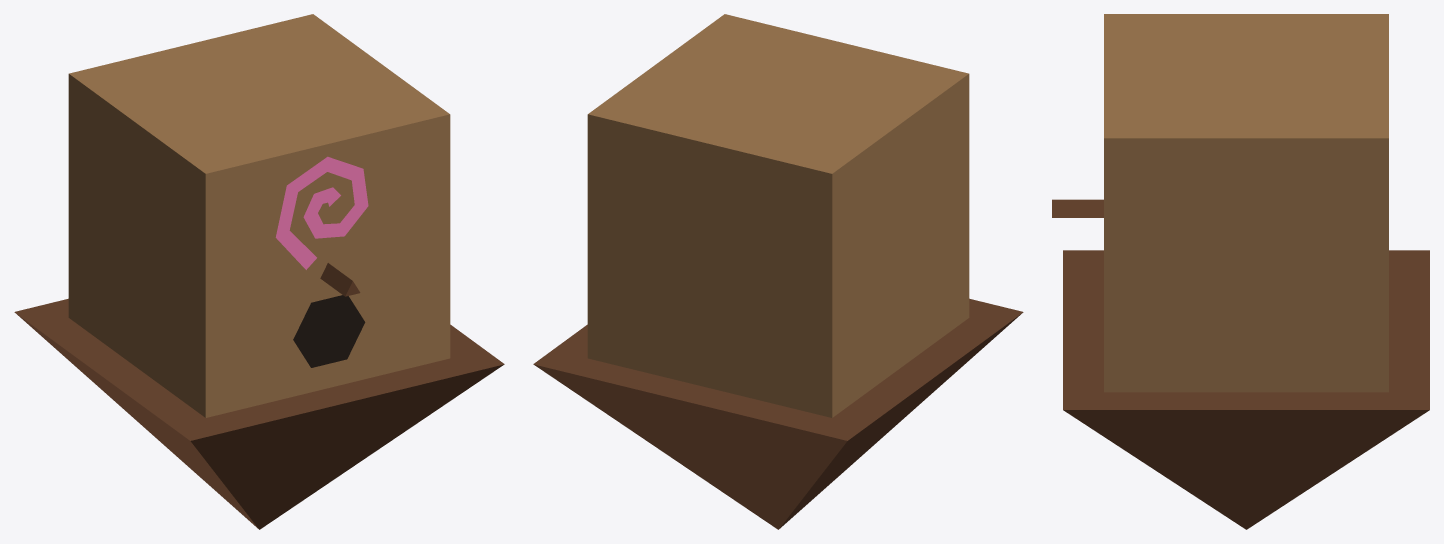
File: birdhouse-upside.glb
3 renders of one model, left to right at view 1: azimuth 30°, elevation 25°; view 2: azimuth 150°, elevation 25°; view 3: azimuth 270°, elevation 25°, orthographic. The views are drawn at different scales.
Visible parts, largest first — view 1: birdhouse-upside; view 2: birdhouse-upside; view 3: birdhouse-upside.
Part boxes in pixels (x1,y1,x2,y2): birdhouse-upside: [14, 14, 504, 529]; birdhouse-upside: [533, 14, 1023, 529]; birdhouse-upside: [1052, 14, 1429, 529].
Size of the model in its own units: 0.566 by 0.75 by 0.566.
